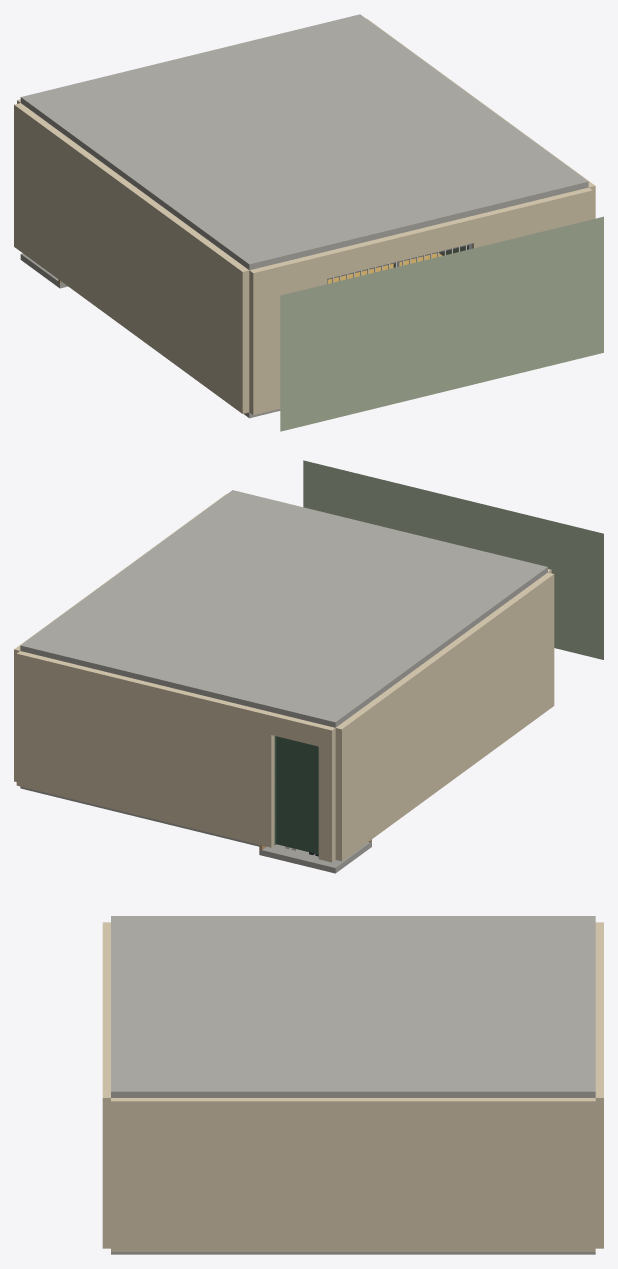
File: St_Home.fbx
3 renders of one model, top to bottom at view 1: azimuth 30°, elevation 25°; view 2: azimuth 150°, elevation 25°; view 3: azimuth 270°, elevation 25°, orthographic. The views are drawn at different scales.
Visible parts, largest first — view 1: Home_Shell_LOD0; view 2: Home_Shell_LOD0; view 3: Home_Shell_LOD0.
Part boxes in pixels (left/top/right/bottom): Home_Shell_LOD0: left=14, top=14, right=603, bottom=431; Home_Shell_LOD0: left=14, top=460, right=603, bottom=873; Home_Shell_LOD0: left=102, top=916, right=603, bottom=1254.
Bounding box in the file's own units: 6.38 × 2.85 × 8.52.
